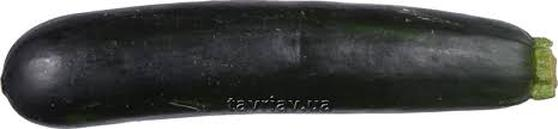zucchini: (3, 3, 556, 121)
